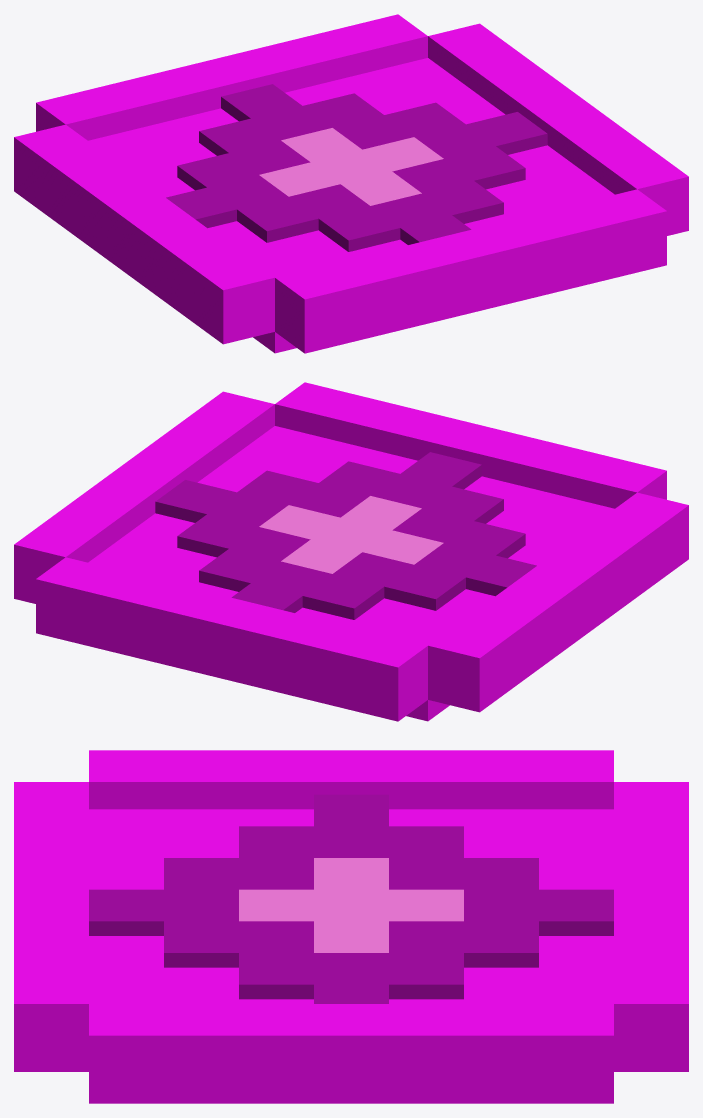
The model's file is PurpleBlock_Block.fbx.
3 renders of one model, top to bottom at view 1: azimuth 30°, elevation 25°; view 2: azimuth 150°, elevation 25°; view 3: azimuth 270°, elevation 25°, orthographic. The views are drawn at different scales.
Visible parts, largest first — view 1: Cube.007, Cube.014, Cube.055; view 2: Cube.007, Cube.014, Cube.055; view 3: Cube.007, Cube.014, Cube.055.
Part boxes in pixels (x1,y1,x2,y2): Cube.007: (14,14,688,353); Cube.014: (166,84,547,251); Cube.055: (259,128,443,205); Cube.007: (14,382,688,721); Cube.014: (155,452,536,619); Cube.055: (259,496,443,573); Cube.007: (14,750,688,1103); Cube.014: (89,794,613,1003); Cube.055: (239,858,463,952).
Bounding box in the file's own units: 9 × 1.4 × 9.
